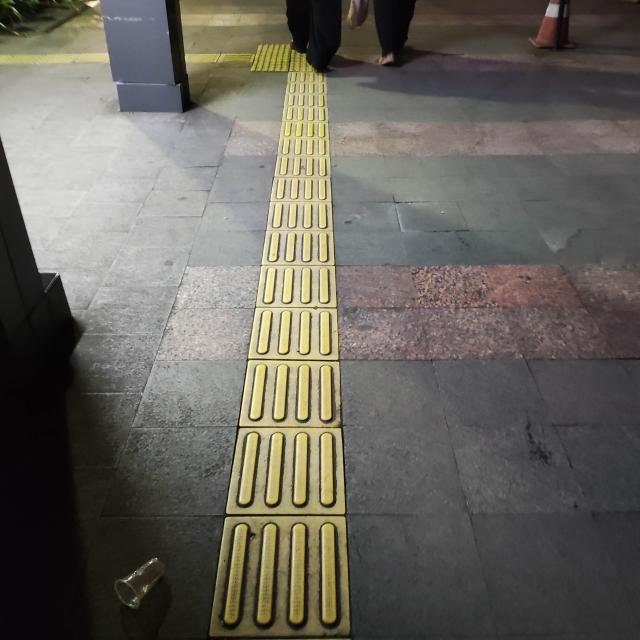lurus: (206, 131, 369, 640)
